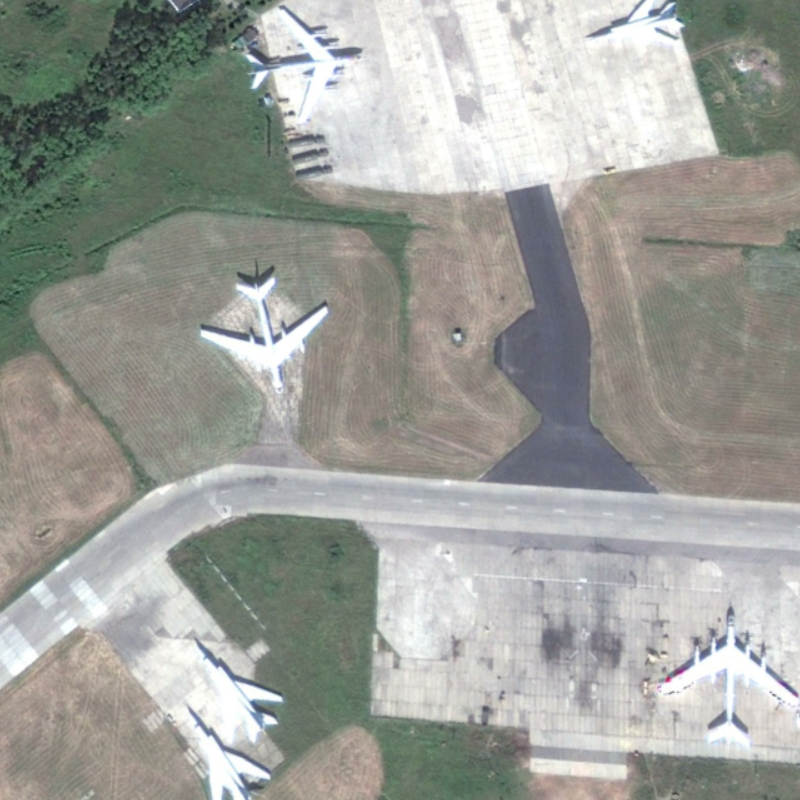A12: (189, 636, 285, 747), (182, 703, 273, 800), (585, 1, 687, 48)
A17: (658, 608, 800, 747), (198, 275, 331, 391), (243, 7, 365, 125)
